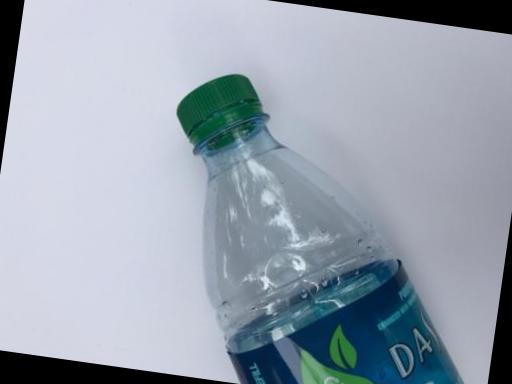plastic: (119, 46, 512, 384)
